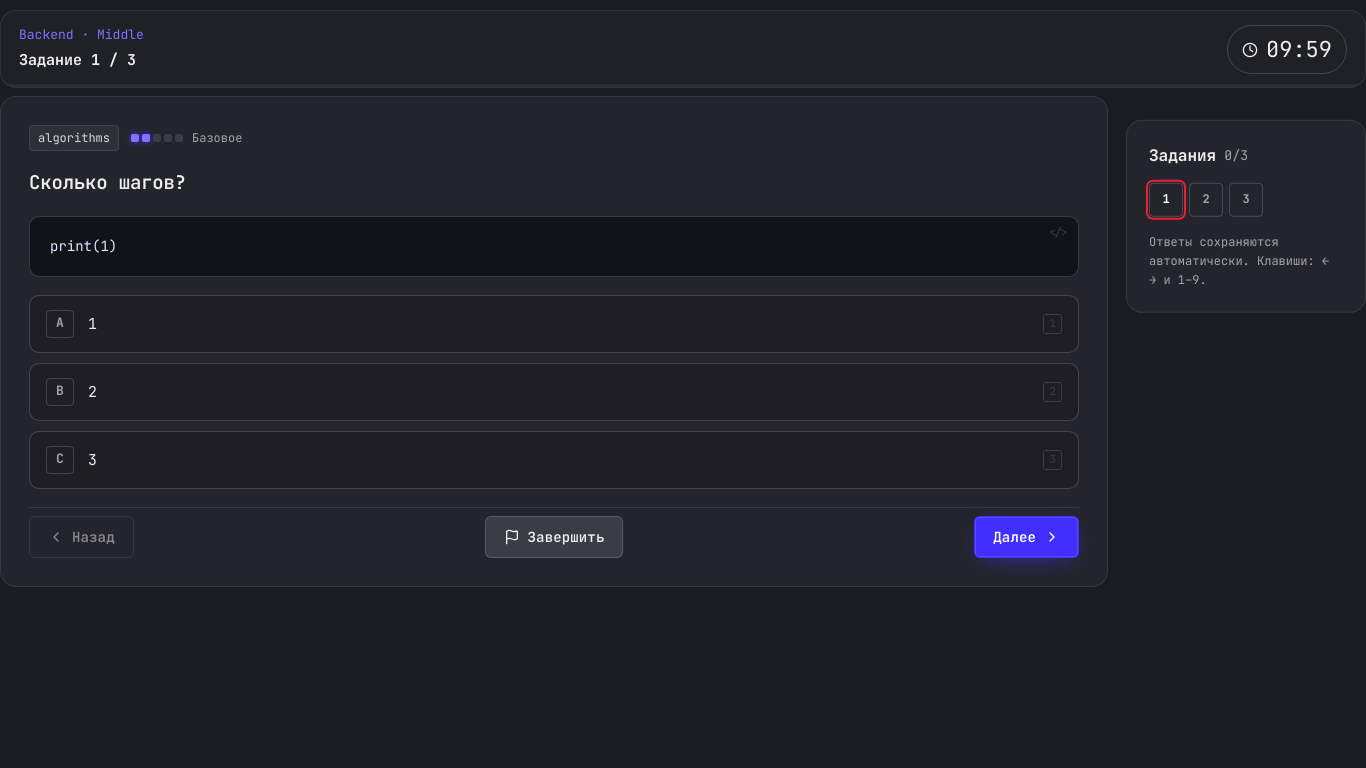
Test case: TestRunner › автосохраняет выбранный вариант индексом
Check: the heading "Сколько шагов?" is shown, box left=29, top=170, right=186, bottom=195
Check: the text "print(1)" is shown, box left=50, top=237, right=117, bottom=255
Click the radio button labelled "B 2 2" at (60, 392), box left=29, top=363, right=1079, bottom=421
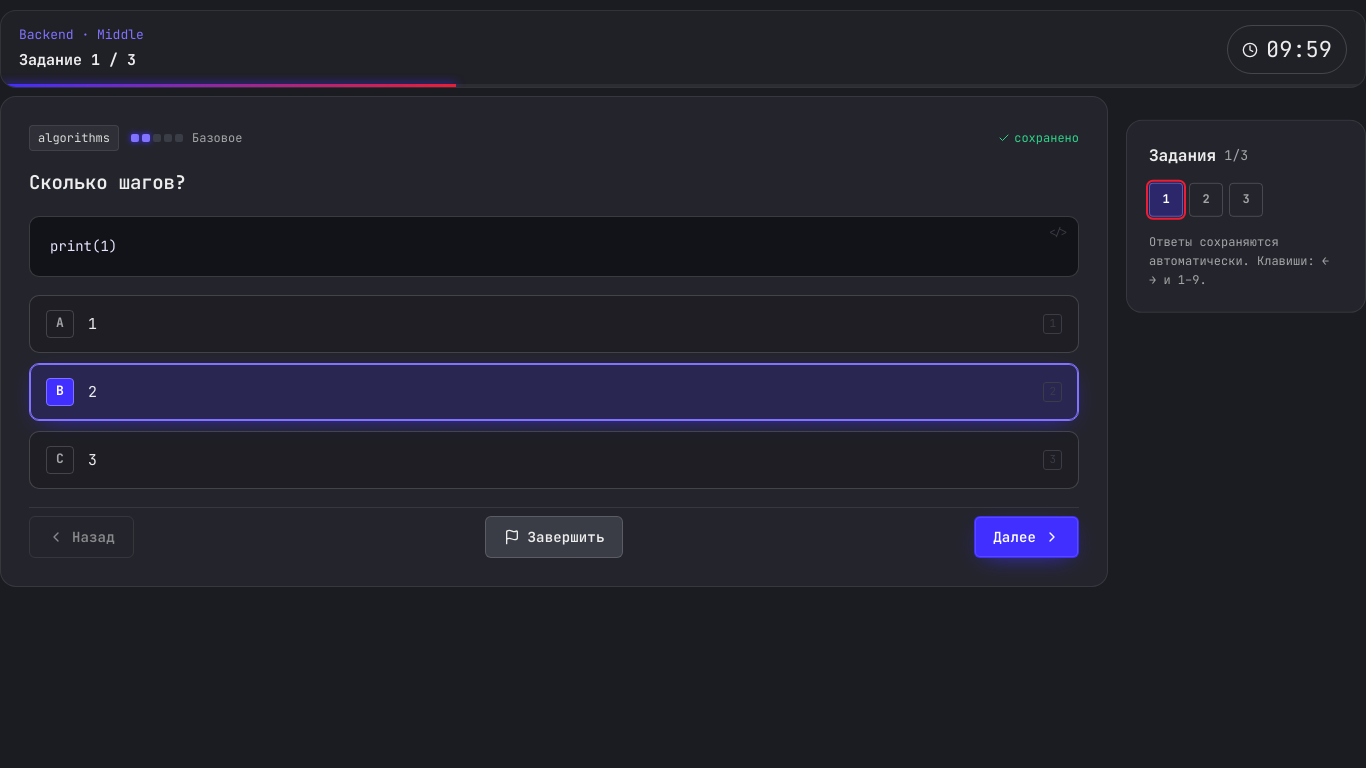
Check: the text "сохранено" is shown, box left=998, top=129, right=1079, bottom=148
Click the button "Далее" at (1027, 537), box left=974, top=516, right=1079, bottom=558
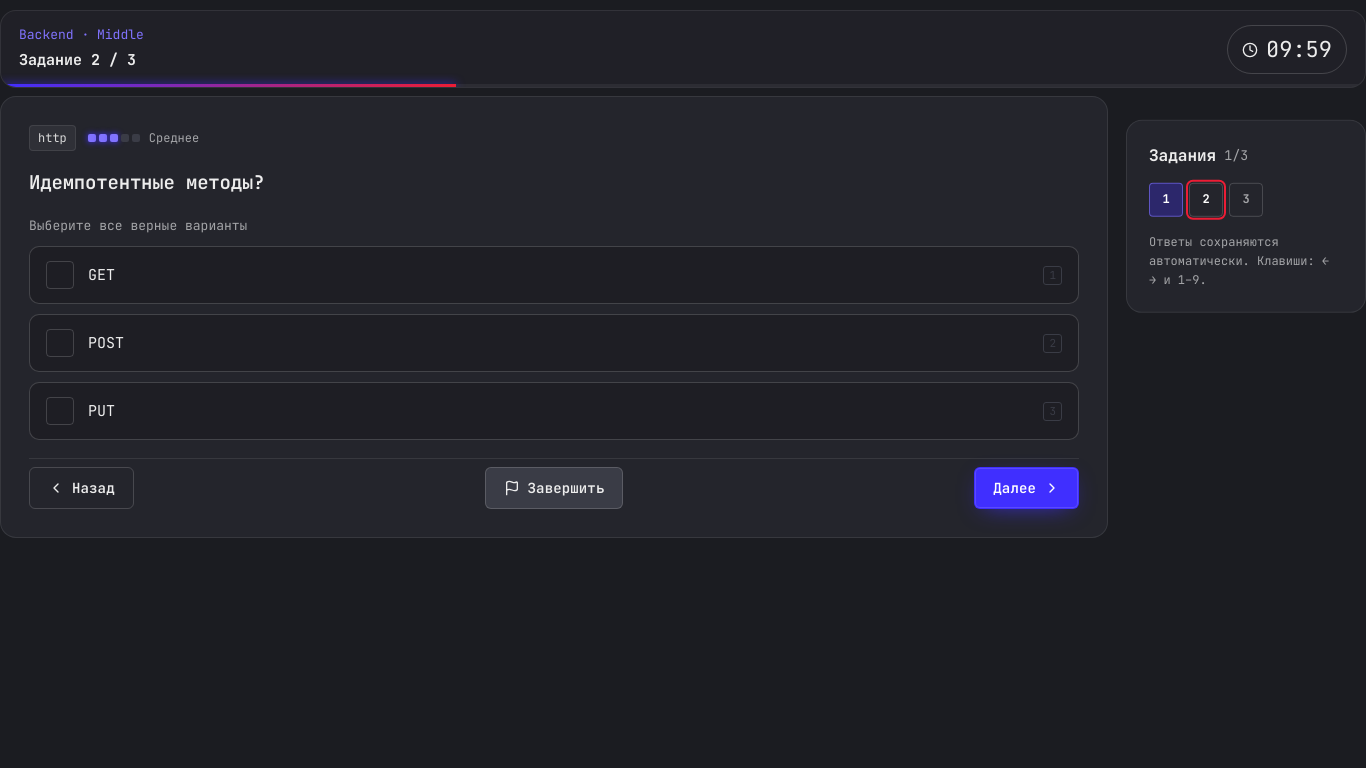
Check: the heading "Идемпотентные методы?" is shown, box left=29, top=170, right=264, bottom=195
